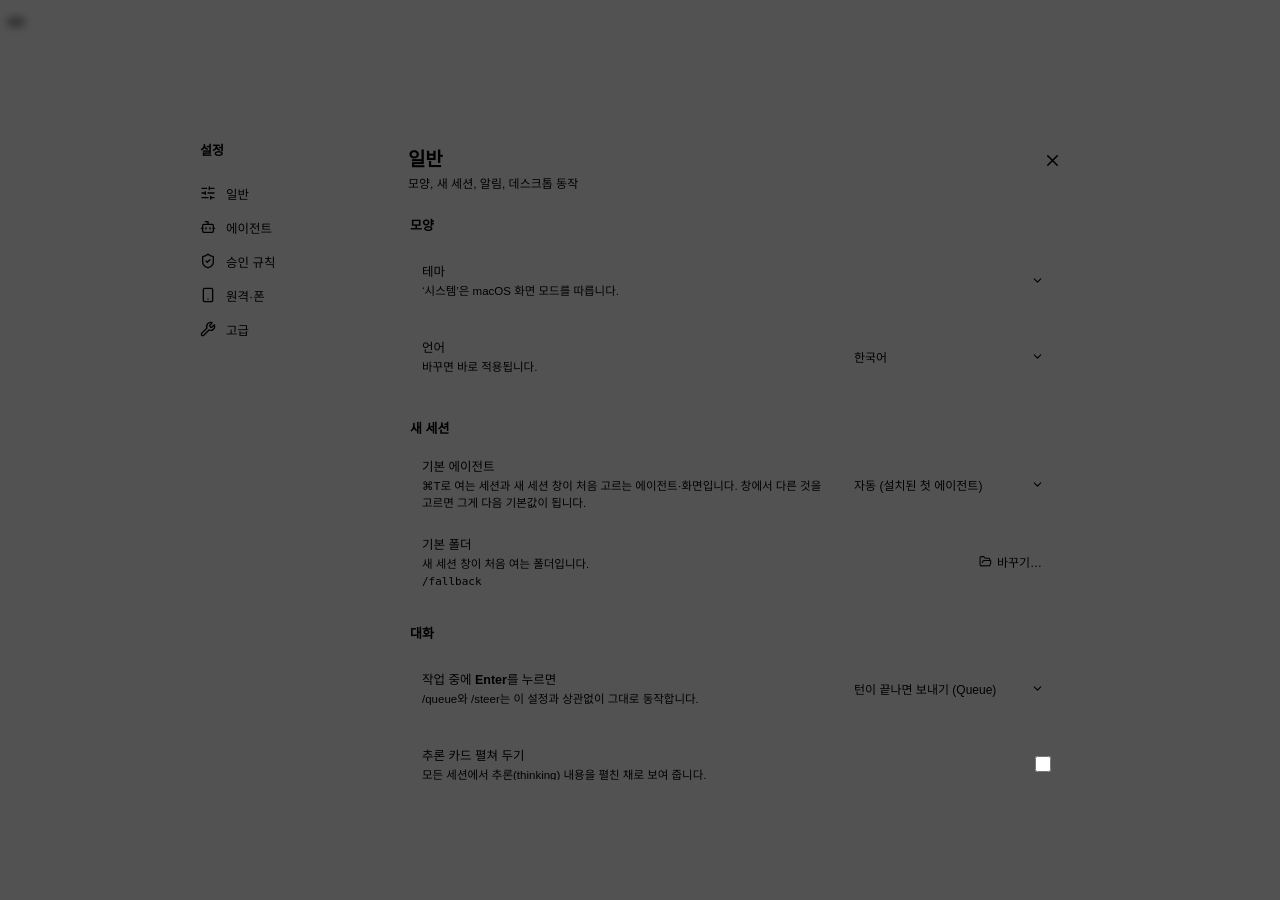
Test case: settings Escape › closes an open dropdown first and the dialog on the next press
Later steps or results of the test are not shown.
Click the button named "테마": (949, 280) [844,264,1054,296]
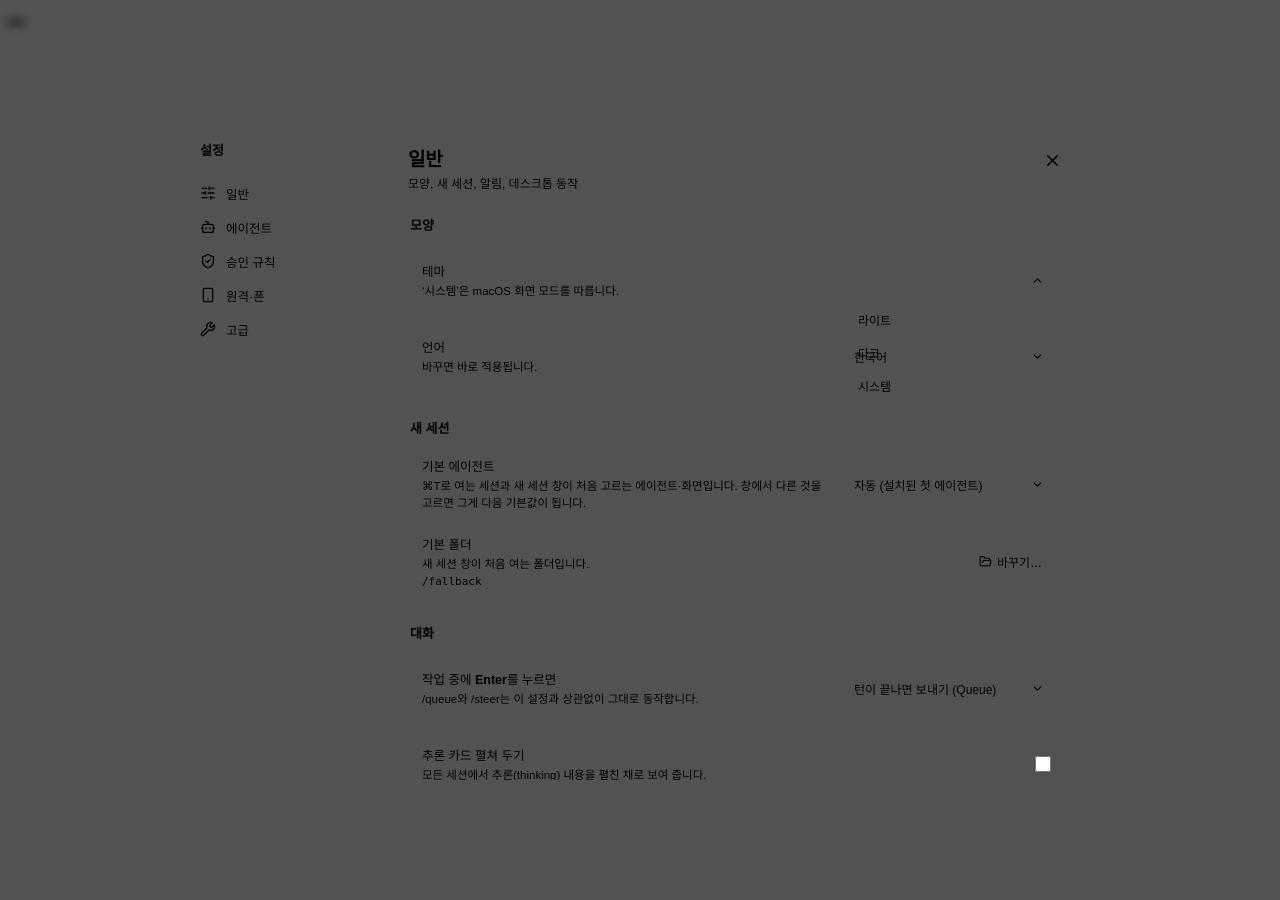
Expected: the list is shown, [826,300,1054,405]
Press Escape in the button named "테마", box [844,264,1054,296]
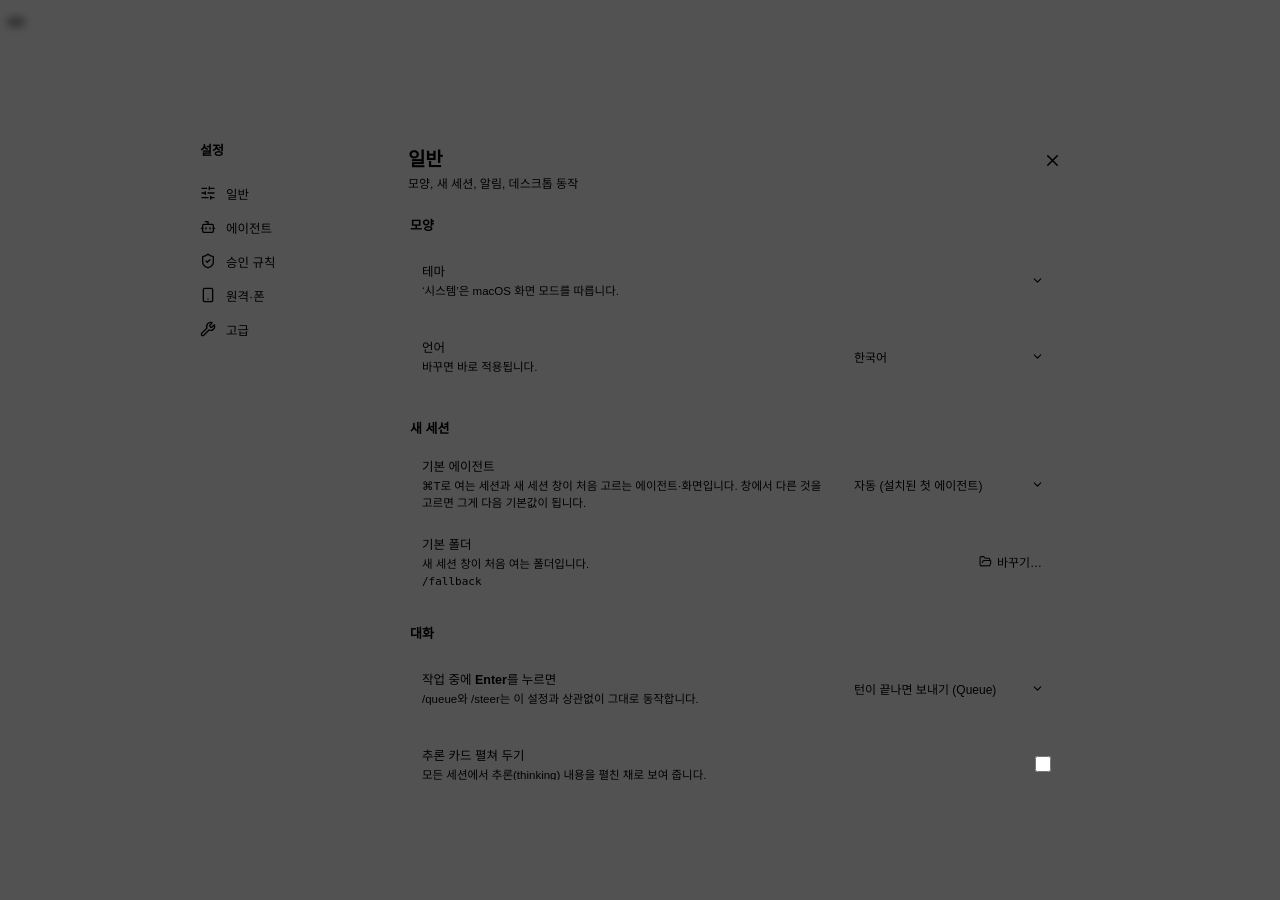
Expected: the list is gone
